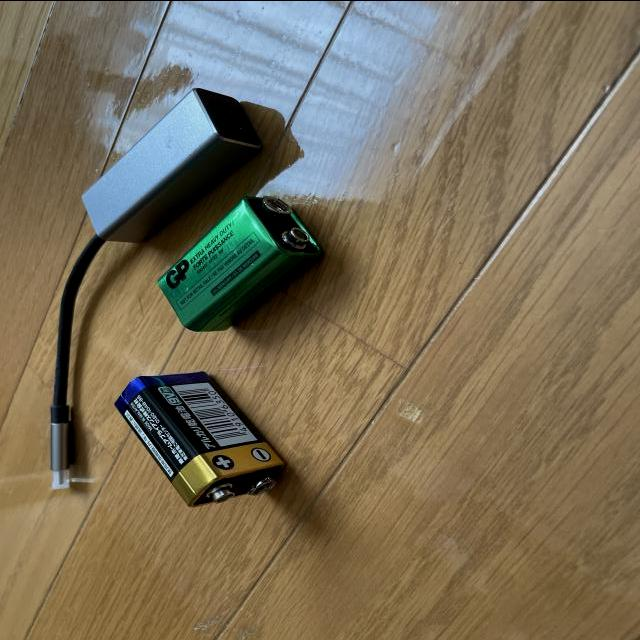9V: (114, 370, 291, 506), (157, 195, 323, 332)
